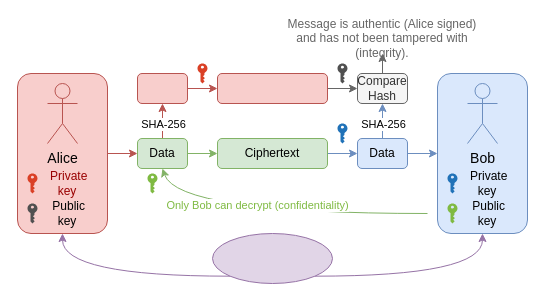
The diagram is 545 pixels wide and 301 high, and some of its shapes have lost their labels. Here are the shapes that lost their labels. From the top down, the box of each, then its label:
(136, 72, 188, 104): Hash
(216, 72, 328, 104): Digital signature
(212, 232, 332, 284): Certification Authority (CA)
